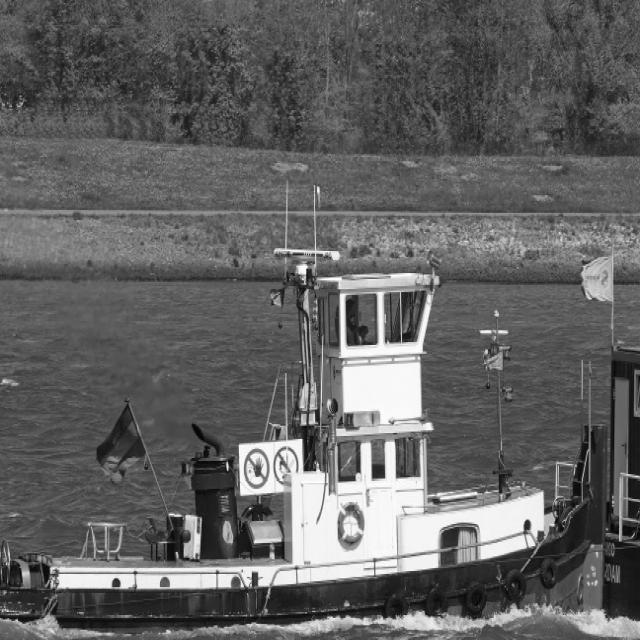tugboat: (1, 240, 615, 640)
